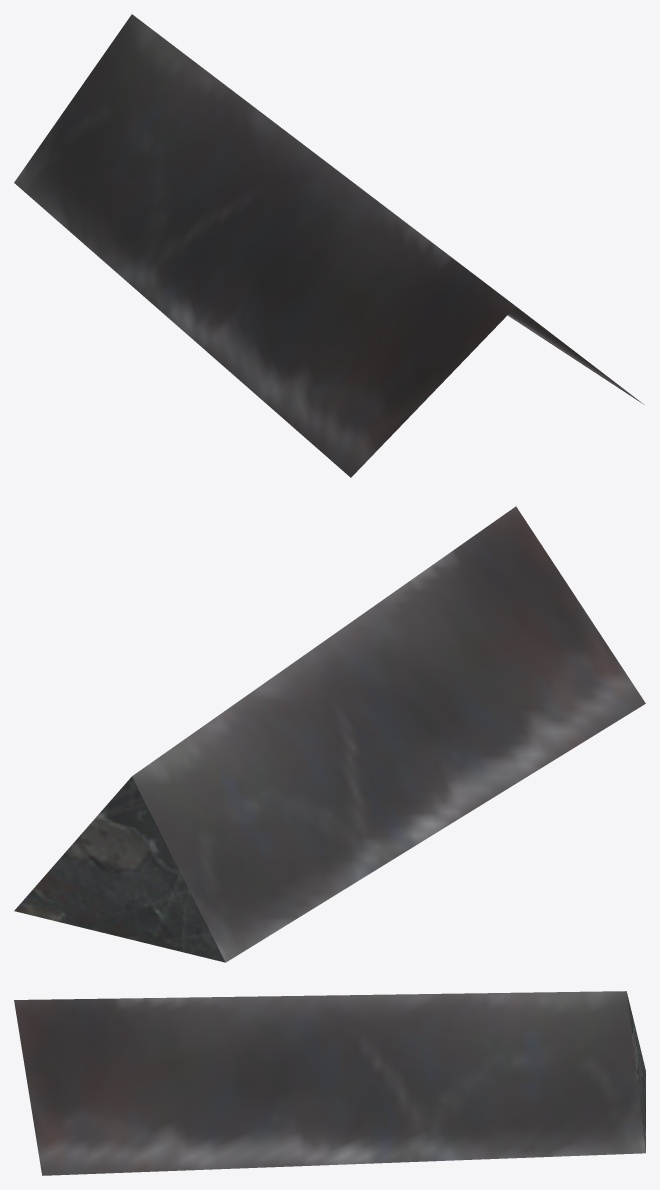
The model's file is A_tiezhui01_posun01.fbx.
The picture shows the model from 3 angles, top to bottom: view 1: azimuth 30°, elevation 25°; view 2: azimuth 150°, elevation 25°; view 3: azimuth 270°, elevation 25°; orthographic projection. The views are drawn at different scales.
Parts seen in each view (by area): view 1: A_tiezhui01_posun01; view 2: A_tiezhui01_posun01; view 3: A_tiezhui01_posun01.
Part boxes in pixels (bbox=[...]): A_tiezhui01_posun01: bbox=[14, 14, 643, 477]; A_tiezhui01_posun01: bbox=[14, 506, 645, 962]; A_tiezhui01_posun01: bbox=[14, 991, 645, 1175].
Size of the model in its own units: 26.86 by 13.89 by 62.49.
